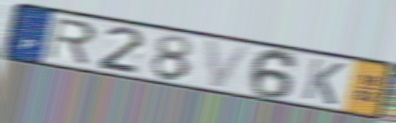2: (94, 26, 148, 76)
6: (247, 47, 301, 100)
8: (148, 33, 198, 82)
K: (300, 56, 348, 107)
R: (45, 16, 99, 67)
V: (204, 38, 255, 90)
